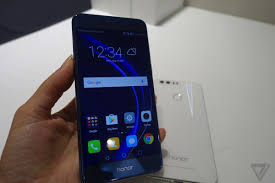huawei: (67, 9, 166, 181)
